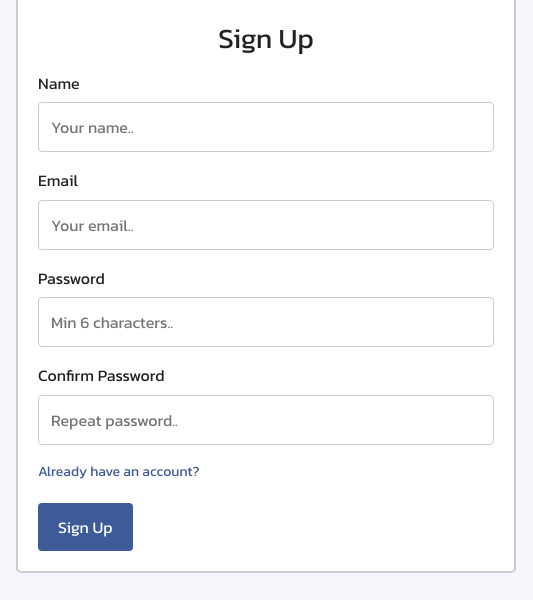
Test: Signup - field validation › shows error when passwords do not match
Type "Alice" into the field with placeholder "Your name.." at [266, 127], box [38,102,494,152]
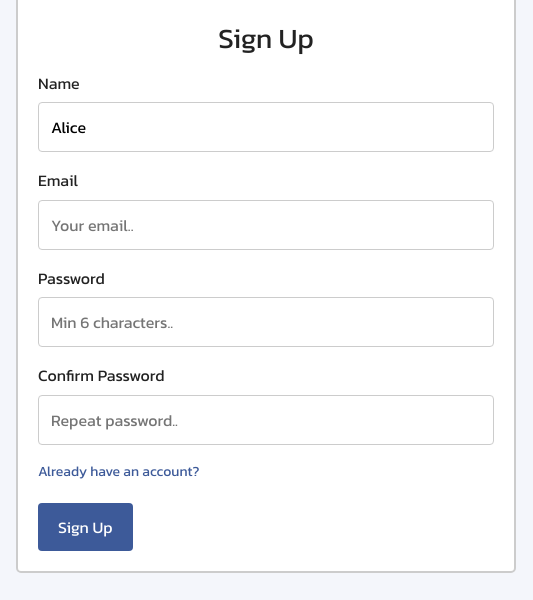
Type "alice@test.com" into the field with placeholder "Your email.." at [266, 225], box [38,200,494,250]
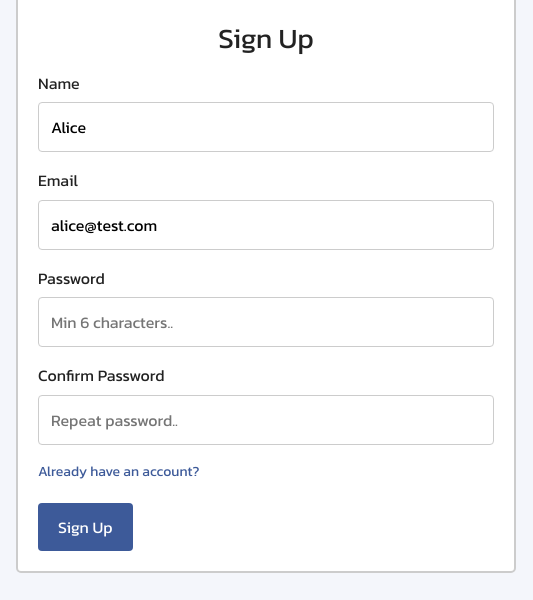
Type "password1" into the password field with placeholder "Min 6 characters.." at [266, 322], box [38,297,494,347]
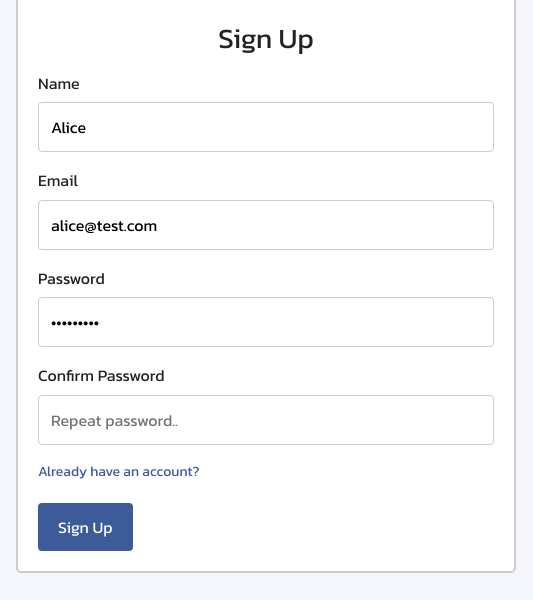
Type "password2" into the password field with placeholder "Repeat password.." at [266, 420], box [38,395,494,445]
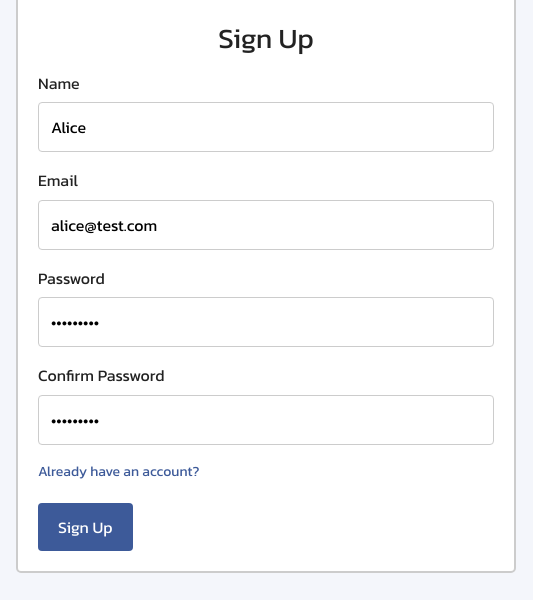
Click the button showing "Sign Up" at [85, 527], box [38,503,132,551]
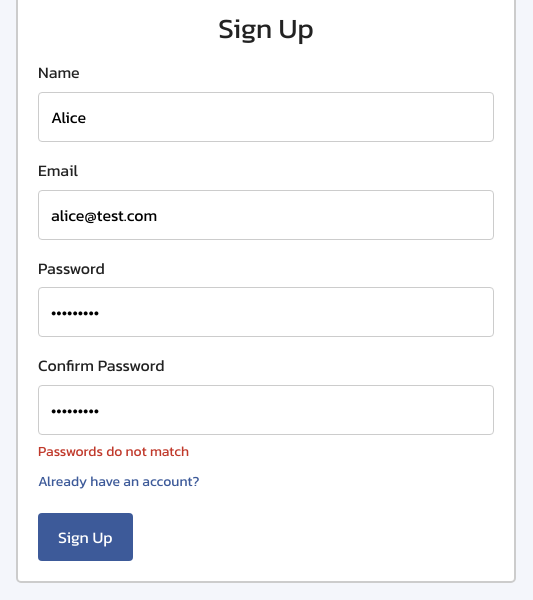
Now the text "Passwords do not match" is shown, box [38,441,189,462]
